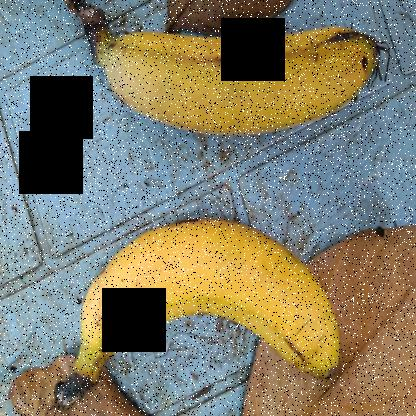freshripe: (64, 188, 342, 415)
ripe: (82, 3, 389, 145)
